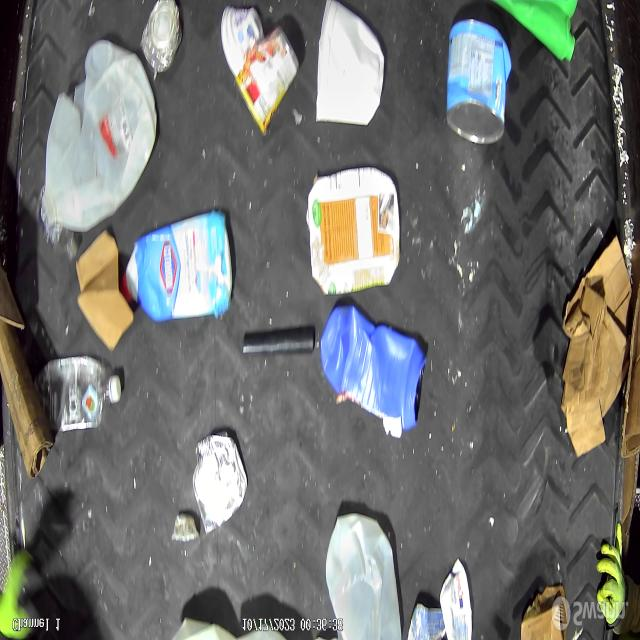can: (447, 15, 512, 149), (192, 433, 247, 533), (141, 0, 185, 78)
milk_jug: (43, 41, 160, 238), (326, 513, 403, 640)
non_white_jug: (321, 304, 427, 430), (122, 212, 236, 320), (308, 167, 401, 295)
plastic_bottle: (37, 351, 124, 433)
